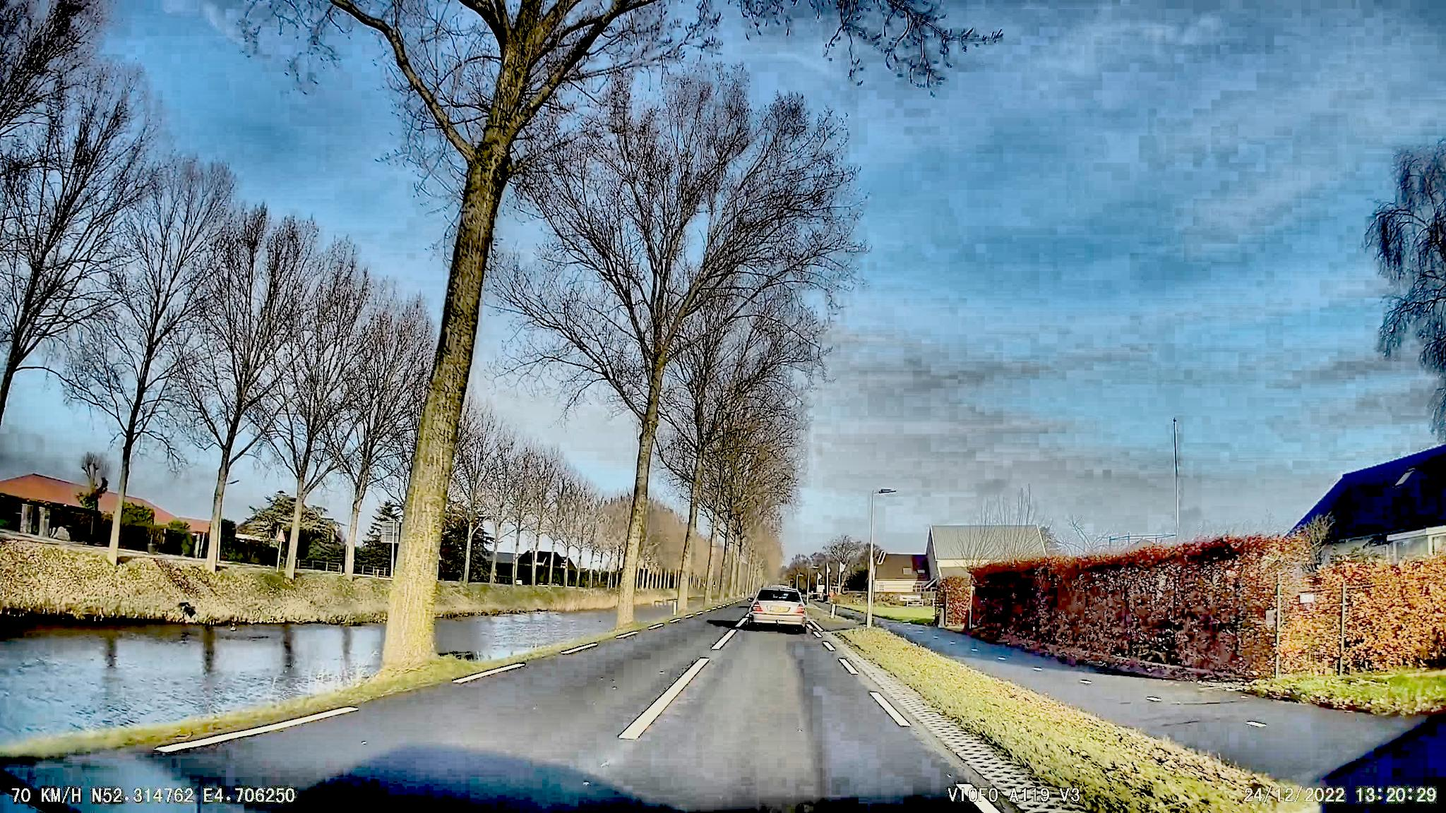Roads: (0, 601, 983, 813)
